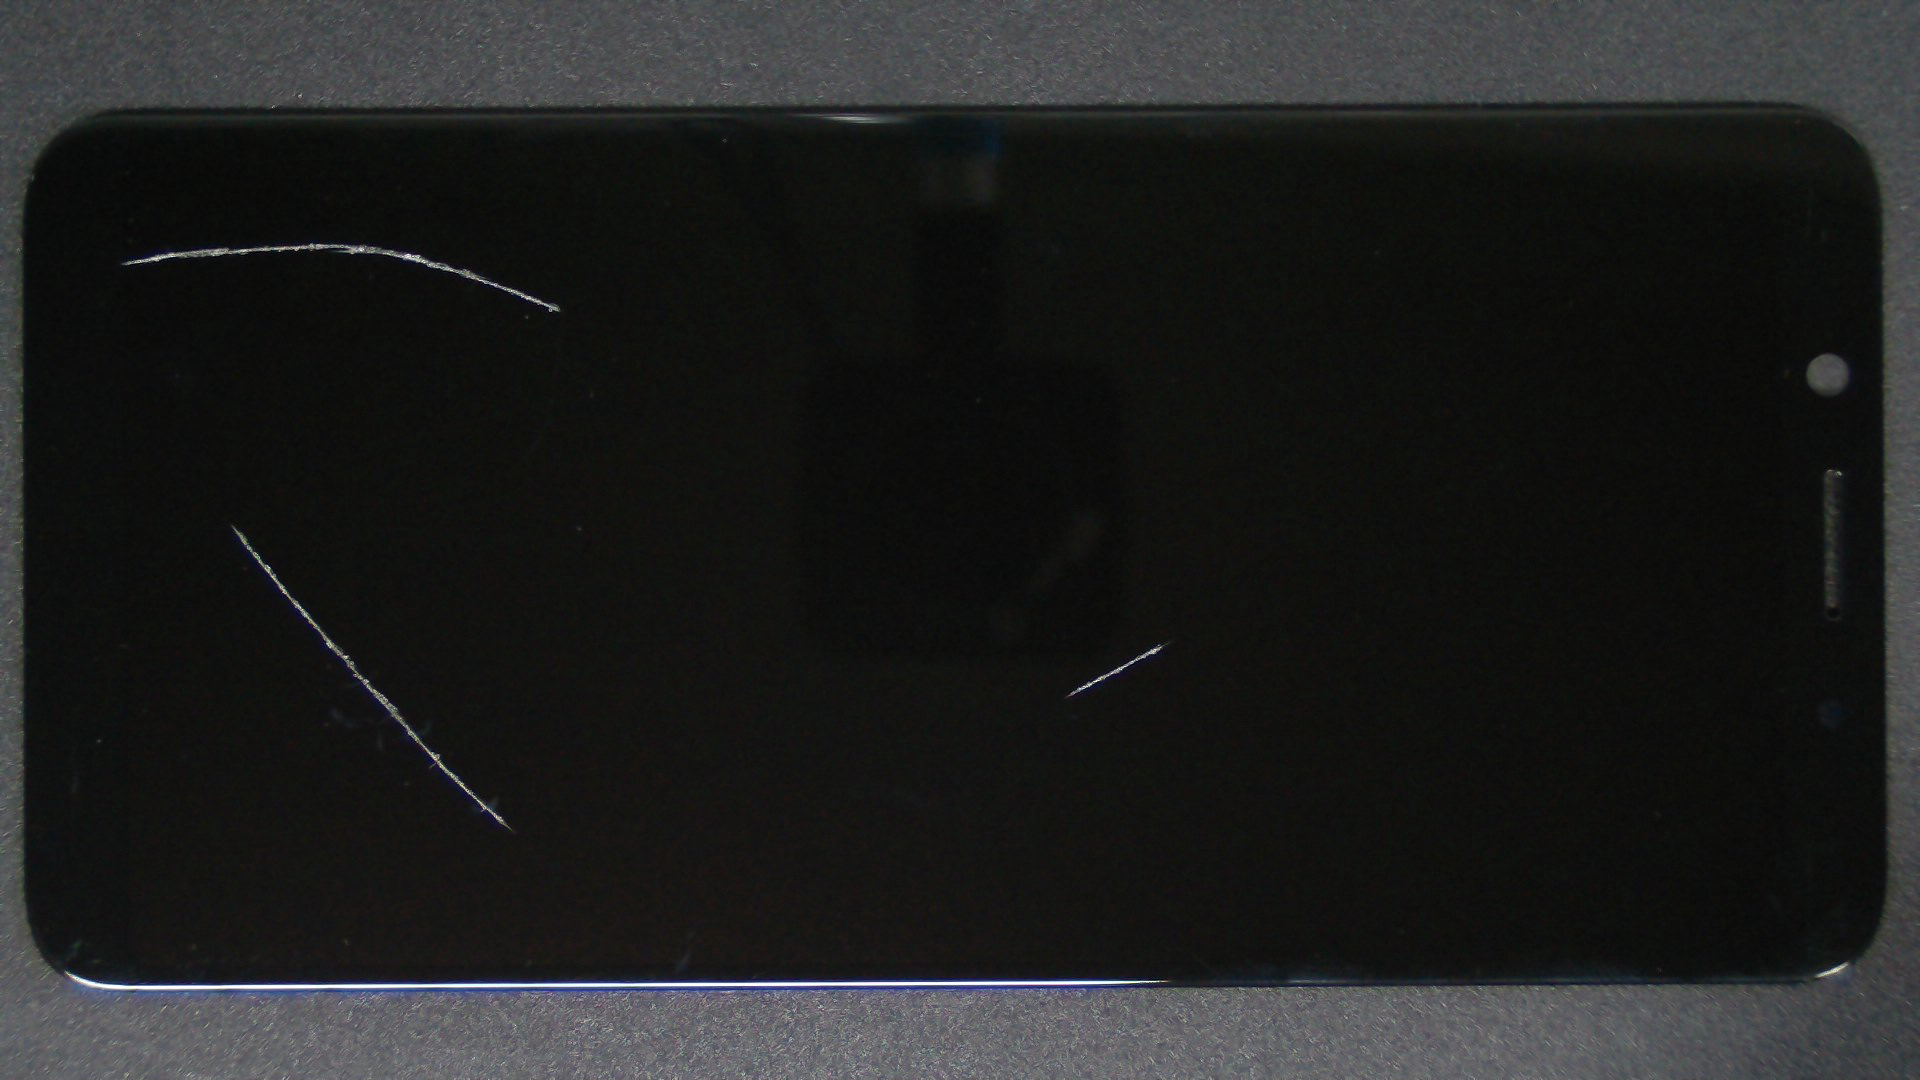defect: (229, 522, 512, 831), (120, 243, 560, 313), (1065, 641, 1168, 696)
